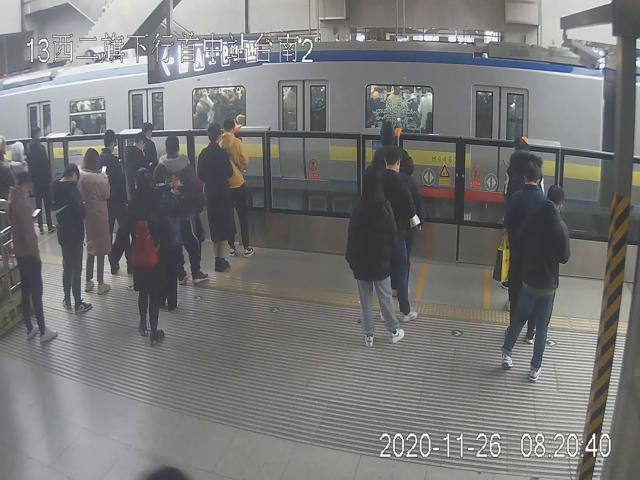person: (501, 184, 571, 380), (347, 164, 408, 347), (114, 168, 172, 346), (502, 164, 550, 346), (7, 172, 57, 342), (158, 134, 209, 285), (377, 145, 417, 322), (52, 164, 94, 313), (198, 124, 236, 272), (218, 118, 254, 260), (80, 148, 112, 296)
